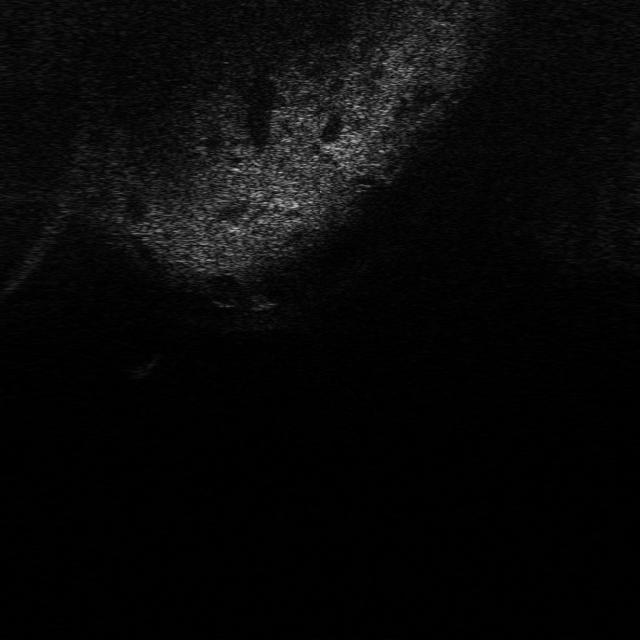cube: (122, 347, 164, 383)
cylinder: (244, 288, 284, 315)
